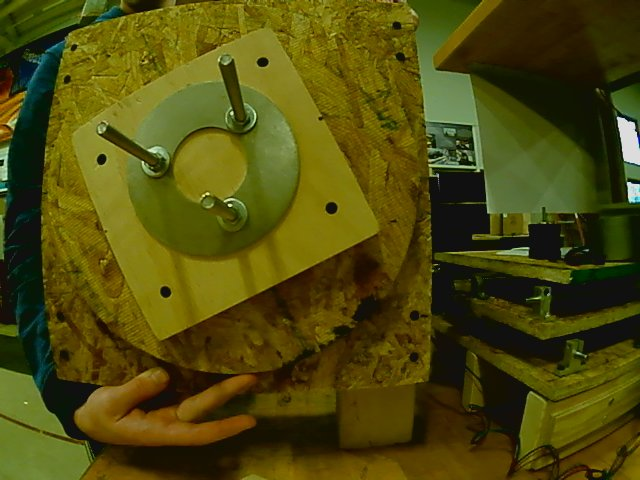bolt: (214, 197, 250, 235), (225, 102, 258, 135), (140, 143, 170, 179)
